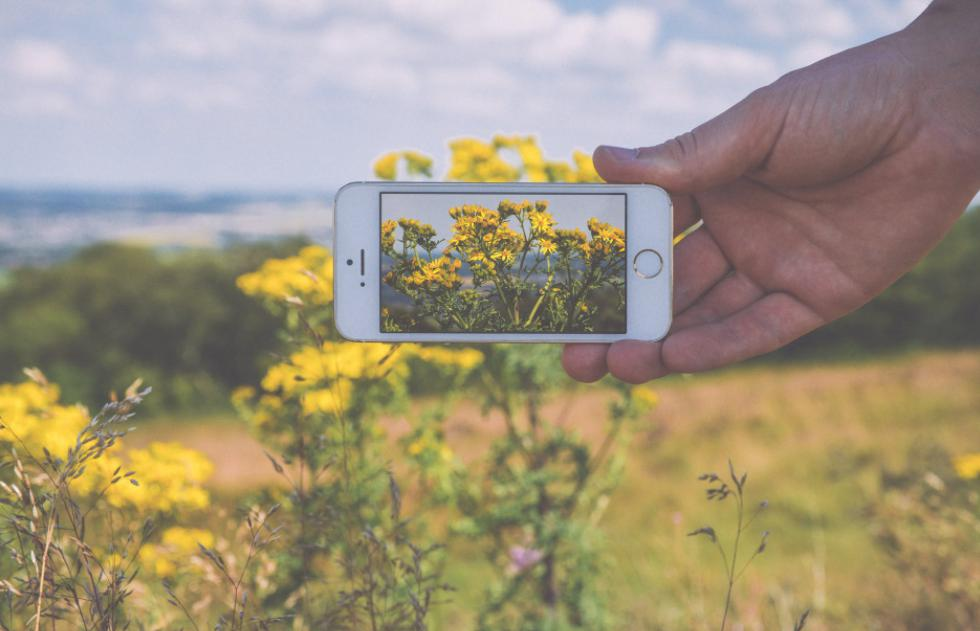mobile: (332, 180, 676, 342)
